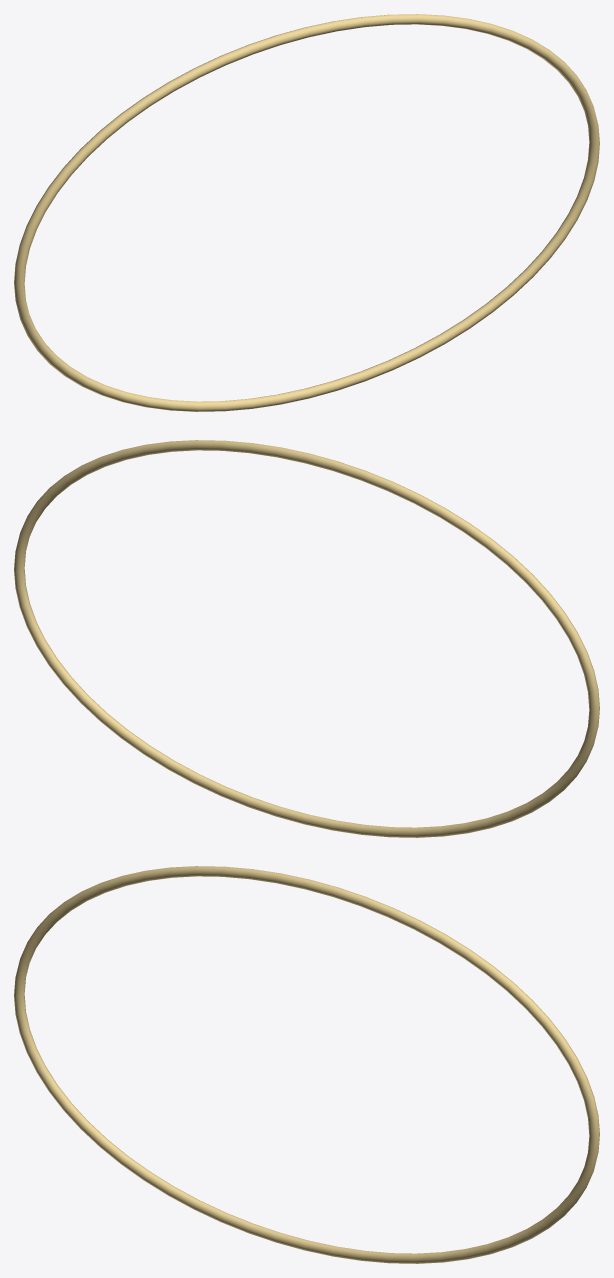
The model's file is orbit-ellipse-ring.glb.
3 renders of one model, top to bottom at view 1: azimuth 30°, elevation 25°; view 2: azimuth 150°, elevation 25°; view 3: azimuth 330°, elevation 25°, orthographic.
Visible parts, largest first — view 1: ellipse; view 2: ellipse; view 3: ellipse.
Part boxes in pixels (x1,y1,x2,y2): ellipse: (14, 14, 599, 411); ellipse: (14, 440, 599, 837); ellipse: (14, 866, 599, 1263).
Bounding box in the file's own units: 3.05 × 1.85 × 0.05.
